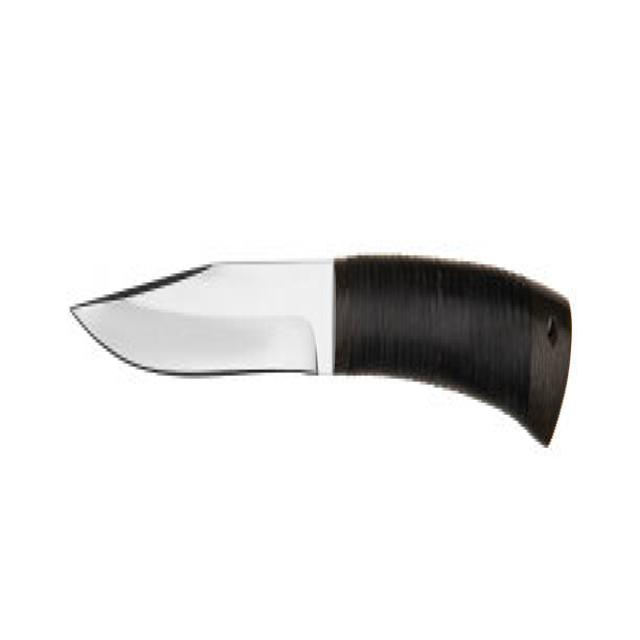knife: (64, 214, 588, 485)
